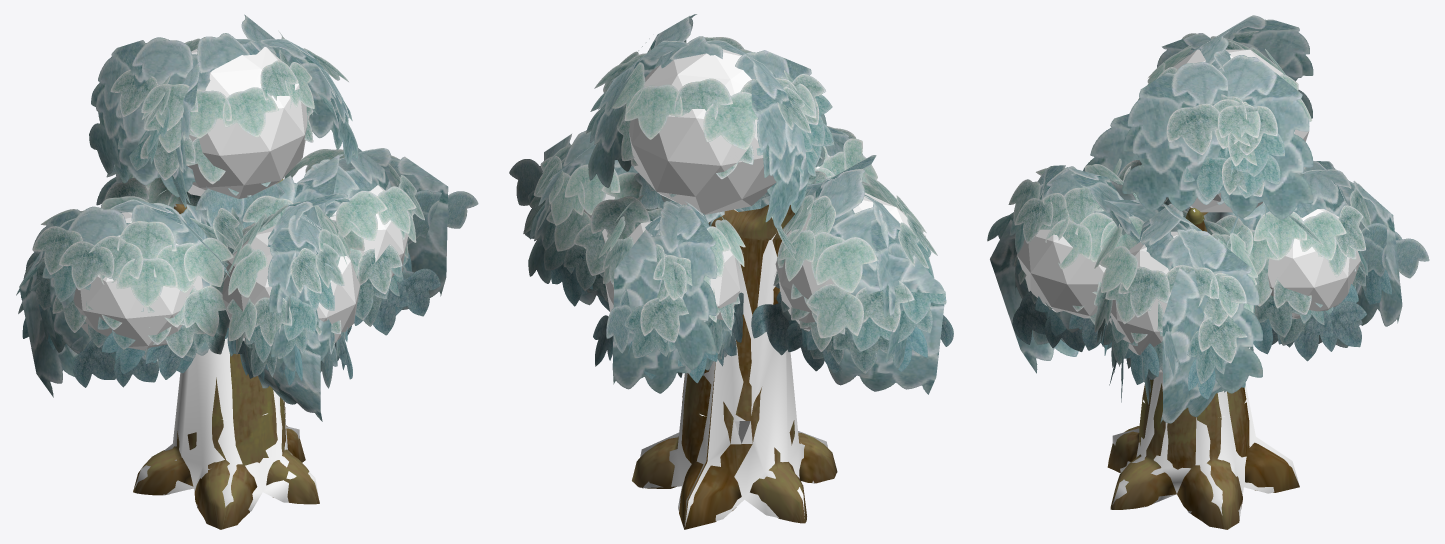
Rendered from tree-hardwood-snow.glb.
The picture shows the model from 3 angles, left to right: view 1: azimuth 30°, elevation 25°; view 2: azimuth 150°, elevation 25°; view 3: azimuth 270°, elevation 25°; orthographic projection. The views are drawn at different scales.
Parts seen in each view (by area): view 1: Crown0__mTreeOakLeafSnow, Crown1__mTreeOakLeafSphSnow, Hull__mShadowShake, TrunkBottom__mPltTreeOakWinterTrunk, Stem__mShadow; view 2: Crown0__mTreeOakLeafSnow, Crown1__mTreeOakLeafSphSnow, Hull__mShadowShake, TrunkBottom__mPltTreeOakWinterTrunk, Stem__mShadow; view 3: Crown1__mTreeOakLeafSphSnow, Crown0__mTreeOakLeafSnow, TrunkBottom__mPltTreeOakWinterTrunk, Hull__mShadowShake, Stem__mShadow.
Part boxes in pixels (x1,y1,x2,y2): Crown0__mTreeOakLeafSnow: [16, 32, 440, 387]; Crown1__mTreeOakLeafSphSnow: [19, 14, 478, 421]; Hull__mShadowShake: [73, 47, 408, 350]; TrunkBottom__mPltTreeOakWinterTrunk: [133, 179, 319, 529]; Stem__mShadow: [134, 177, 319, 511]; Crown0__mTreeOakLeafSnow: [523, 37, 953, 383]; Crown1__mTreeOakLeafSphSnow: [509, 14, 945, 394]; Hull__mShadowShake: [583, 49, 929, 331]; TrunkBottom__mPltTreeOakWinterTrunk: [632, 204, 837, 529]; Stem__mShadow: [640, 209, 827, 527]; Crown1__mTreeOakLeafSphSnow: [990, 15, 1429, 423]; Crown0__mTreeOakLeafSnow: [987, 31, 1399, 402]; TrunkBottom__mPltTreeOakWinterTrunk: [1107, 207, 1299, 529]; Hull__mShadowShake: [1017, 49, 1360, 372]; Stem__mShadow: [1112, 209, 1299, 518].
Size of the model in its own units: 3.38 by 3.22 by 2.87.
6 materials, 4 textured.
